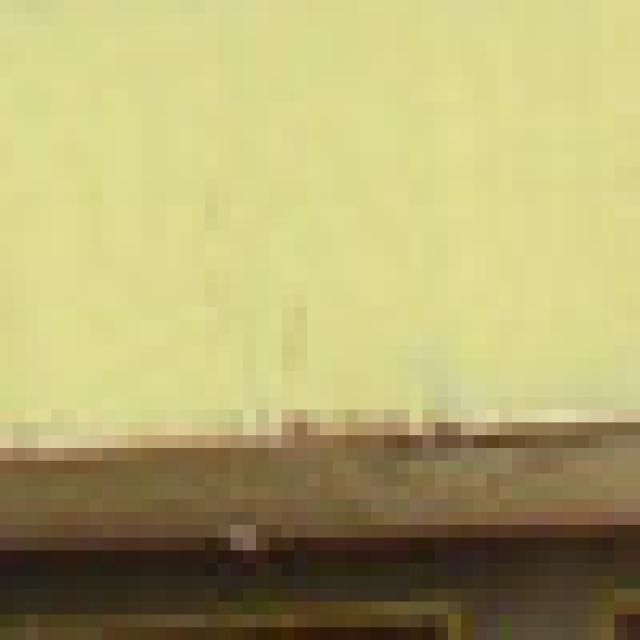no_fire: (17, 33, 640, 470)
